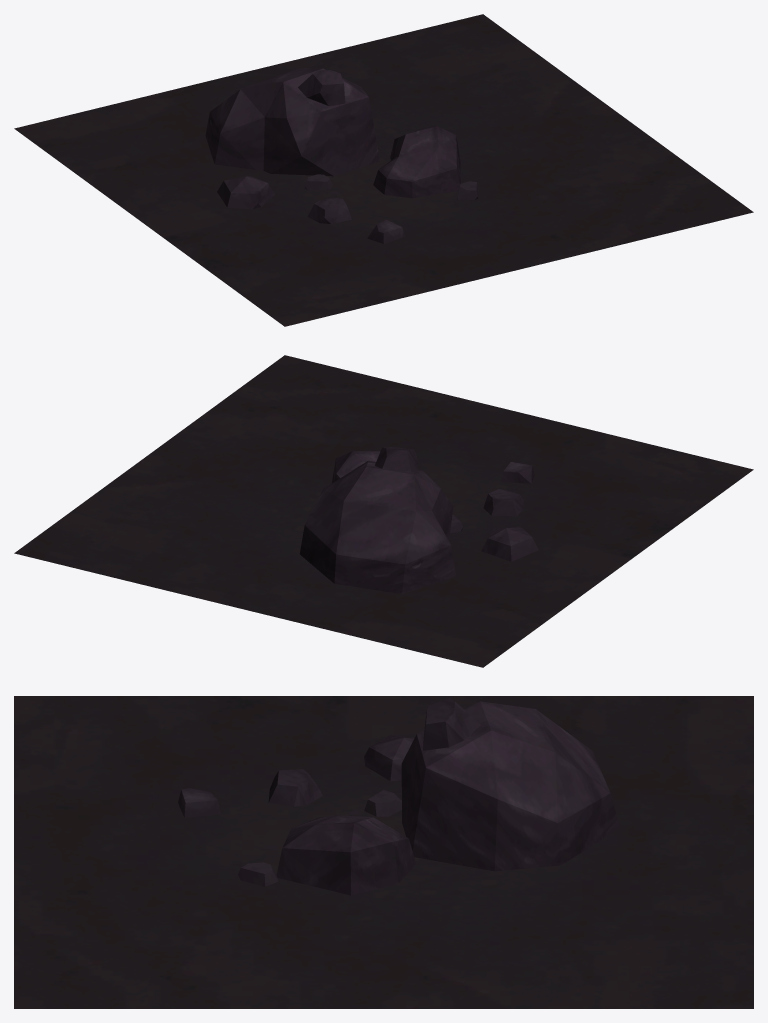
The model's file is cave_rubble_04.fbx.
3 views of the same model, one above another, from view 1: azimuth 30°, elevation 25°; view 2: azimuth 150°, elevation 25°; view 3: azimuth 270°, elevation 25° (orthographic). The views are drawn at different scales.
Visible parts, largest first — view 1: cave_rubble_04-0; view 2: cave_rubble_04-0; view 3: cave_rubble_04-0.
Boxes of the visible parts, left/top/right/bottom form: cave_rubble_04-0: left=14, top=14, right=753, bottom=326; cave_rubble_04-0: left=14, top=355, right=753, bottom=667; cave_rubble_04-0: left=14, top=696, right=753, bottom=1008.
Size of the model in its own units: 4 by 0.7884 by 4.
